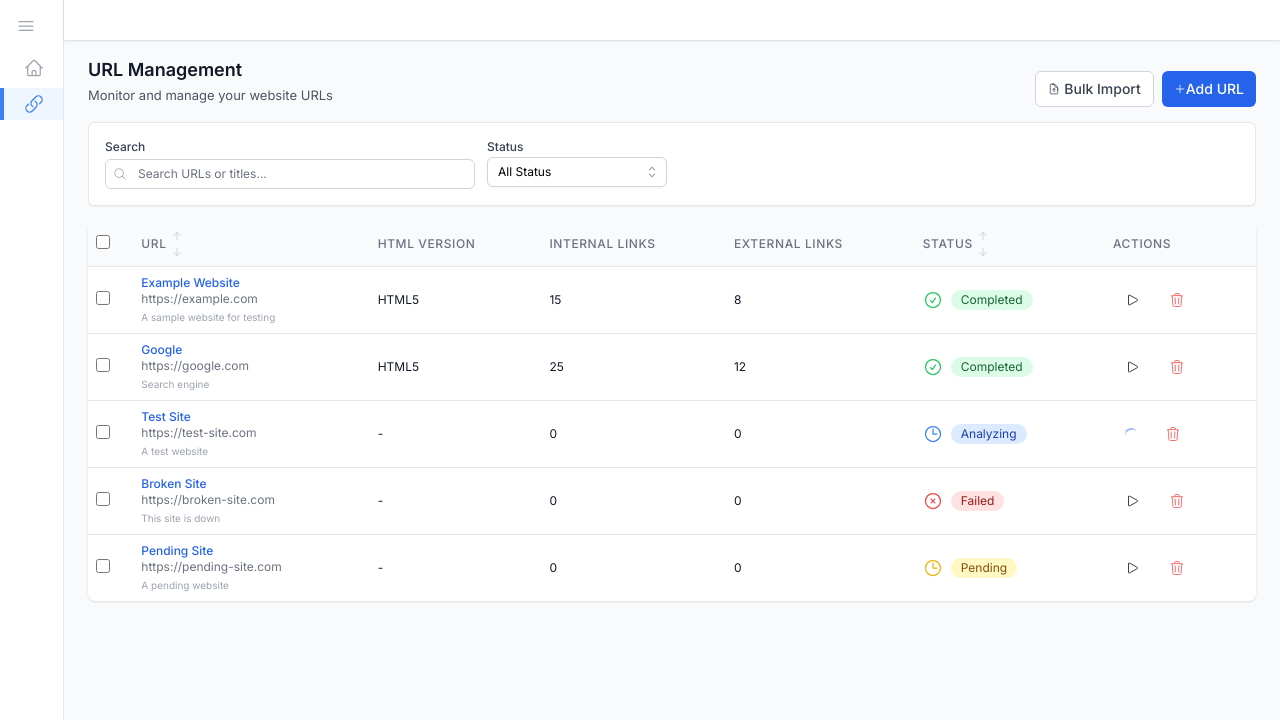
Test case: URL Management - Delete URL › should successfully delete URL when confirming
The image size is (1280, 720).
Expected: the table with test id "url-table" is shown, [88,222,1256,601]
Click the button with test id "delete-url-button".
click(1177, 300)  # box [1157,282,1197,318]
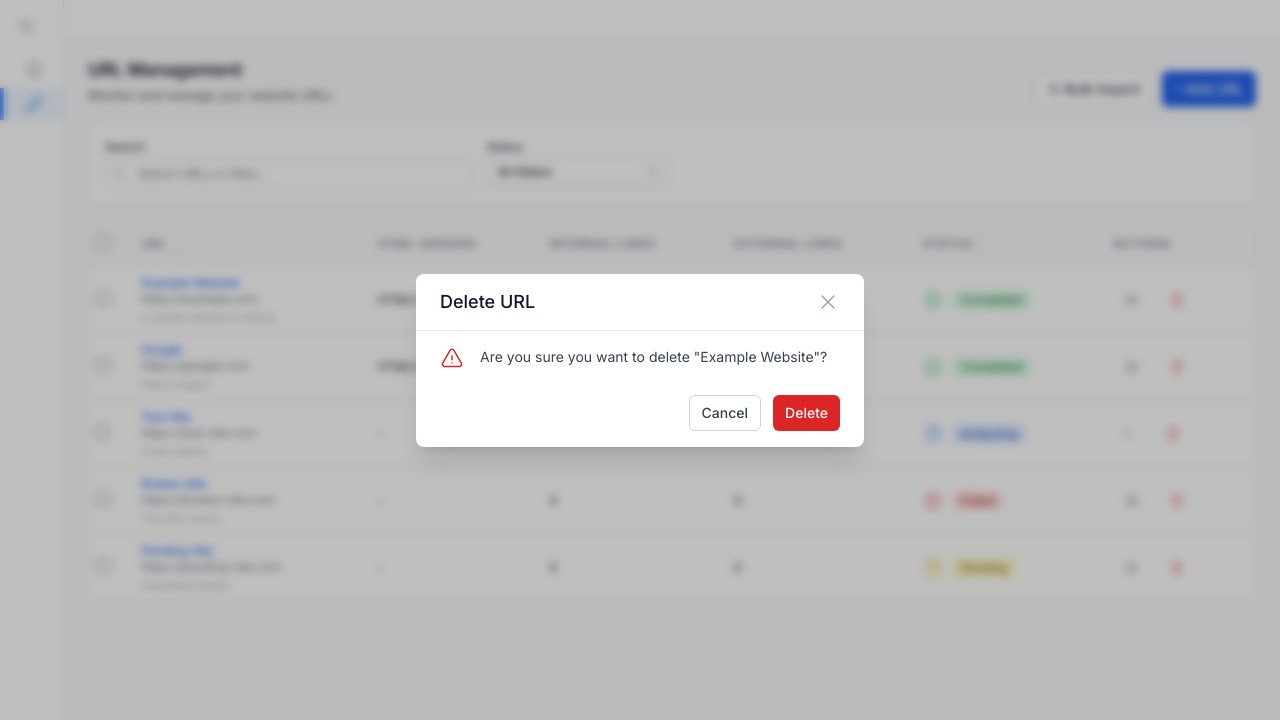
Expected: the element with test id "confirmation-dialog" is shown, [416,274,864,447]
Click the button with test id "confirm-button".
click(807, 413)  # box [773,395,840,431]
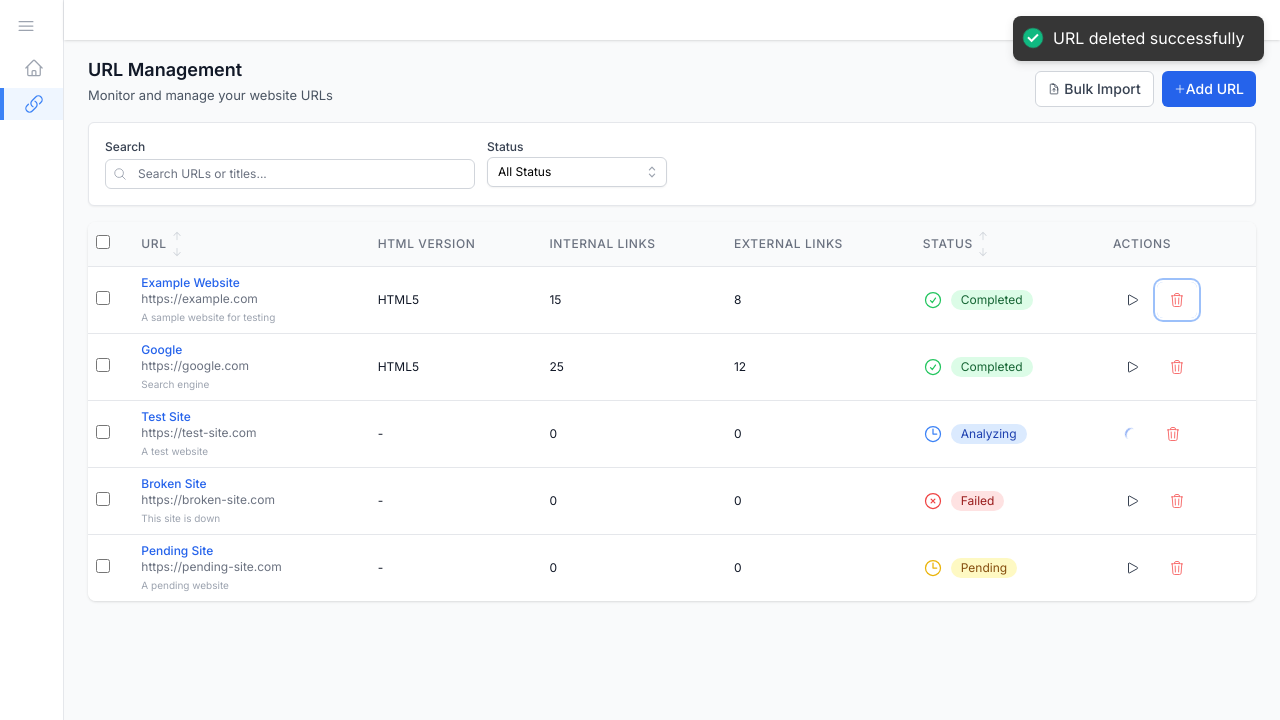
Expected: the element with test id "confirmation-dialog" is gone
